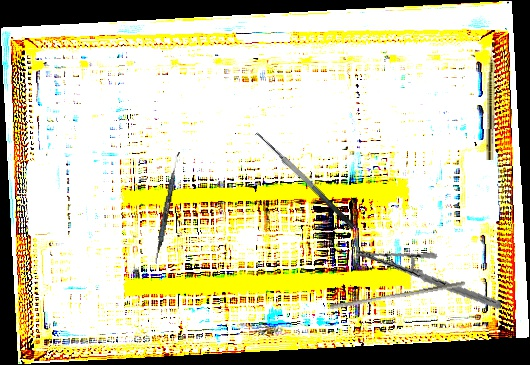Handpiece: (485, 40, 498, 161)
Needle Holder: (355, 227, 502, 331)
Pusher: (328, 275, 467, 315)
Spatula Surgical: (248, 127, 357, 238), (153, 150, 181, 265)
